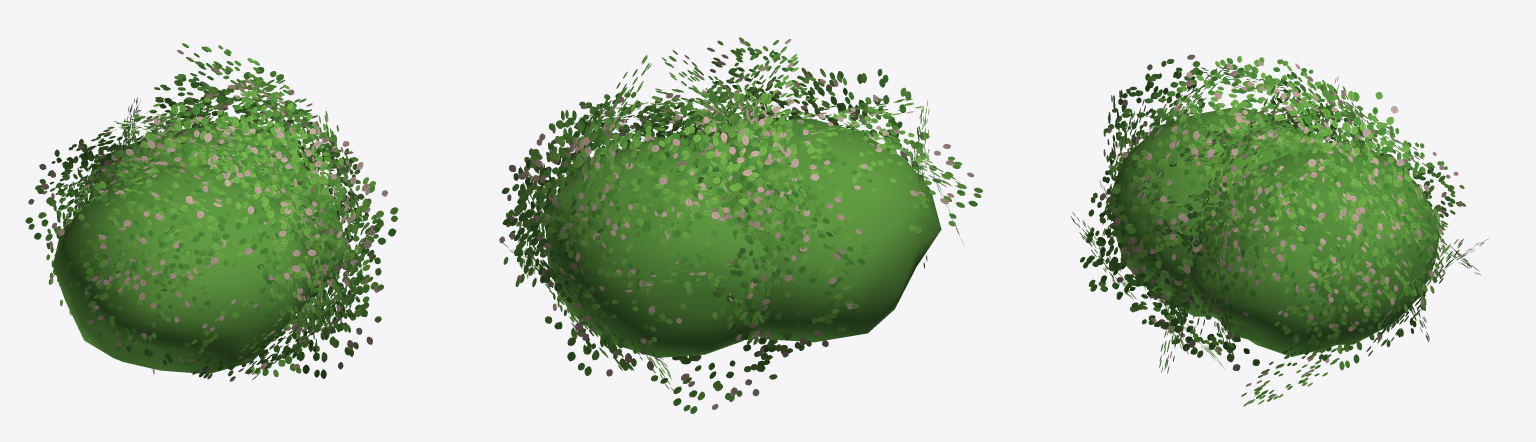
File: plant_bush_flowering.glb
The picture shows the model from 3 angles, left to right: view 1: azimuth 30°, elevation 25°; view 2: azimuth 150°, elevation 25°; view 3: azimuth 270°, elevation 25°; orthographic projection. The views are drawn at different scales.
Parts seen in each view (by area): view 1: bush_flowering, bush_flowering_bush_core; view 2: bush_flowering, bush_flowering_bush_core; view 3: bush_flowering, bush_flowering_bush_core.
Boxes of the visible parts, x1,y1,x2,y2 form: bush_flowering: (25, 43, 398, 381); bush_flowering_bush_core: (53, 120, 346, 373); bush_flowering: (499, 37, 982, 413); bush_flowering_bush_core: (545, 118, 941, 357); bush_flowering: (1071, 54, 1488, 406); bush_flowering_bush_core: (1110, 108, 1441, 356).
Size of the model in its own units: 1.88 by 1.69 by 1.89.
2 materials, 1 textured.
